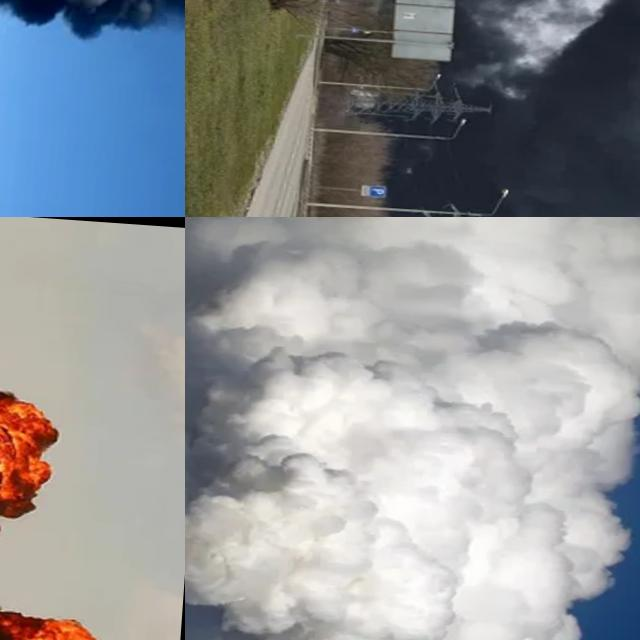smoke: (185, 217, 640, 640), (343, 0, 640, 217), (0, 0, 185, 75)
